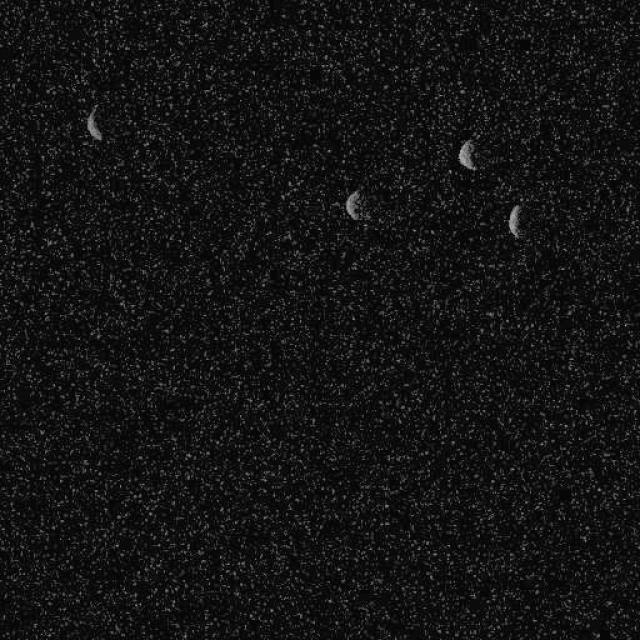D2: (457, 138, 478, 170), (85, 104, 103, 141), (343, 188, 362, 220), (507, 202, 522, 238)
